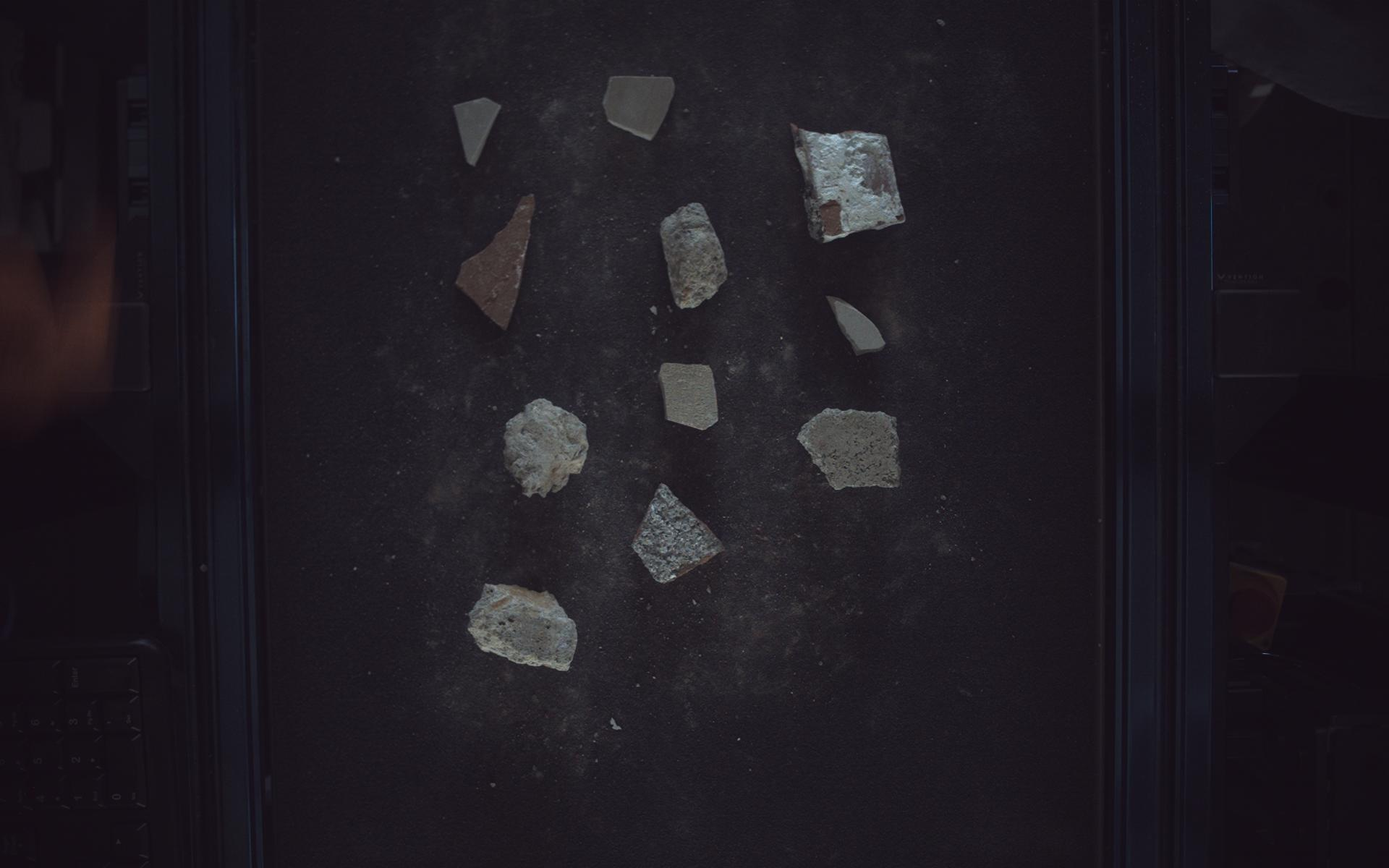brick: (792, 123, 907, 242), (456, 194, 535, 329), (632, 485, 725, 584)
concrete: (469, 584, 578, 672), (504, 399, 590, 497), (799, 409, 901, 490), (661, 202, 729, 308)
tile: (604, 75, 676, 140), (660, 363, 719, 430), (829, 295, 887, 355), (454, 96, 501, 165)
